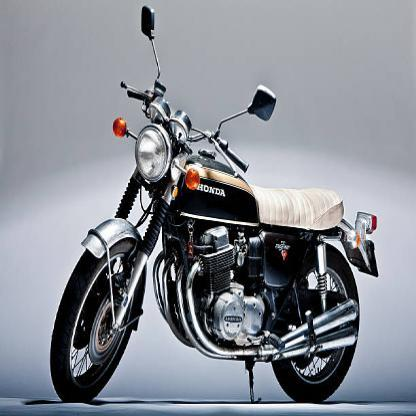Motorcycle: (48, 3, 385, 415)
